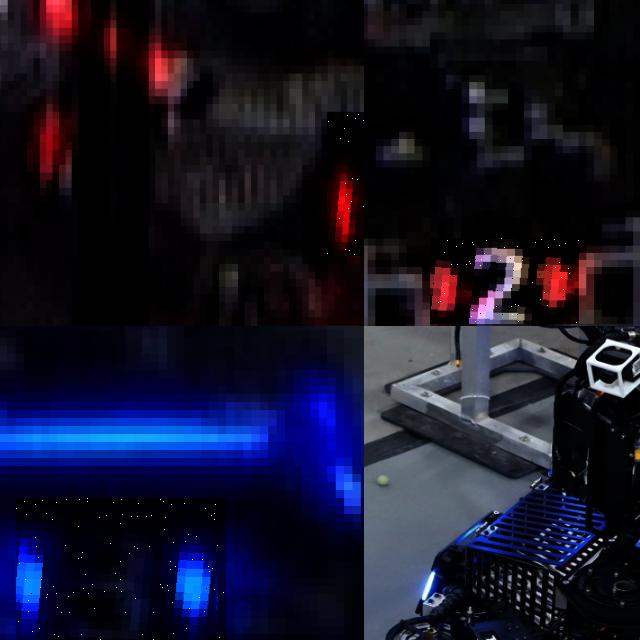B3: (15, 498, 226, 640)
R2: (430, 238, 579, 324)
R4: (327, 111, 364, 256)
